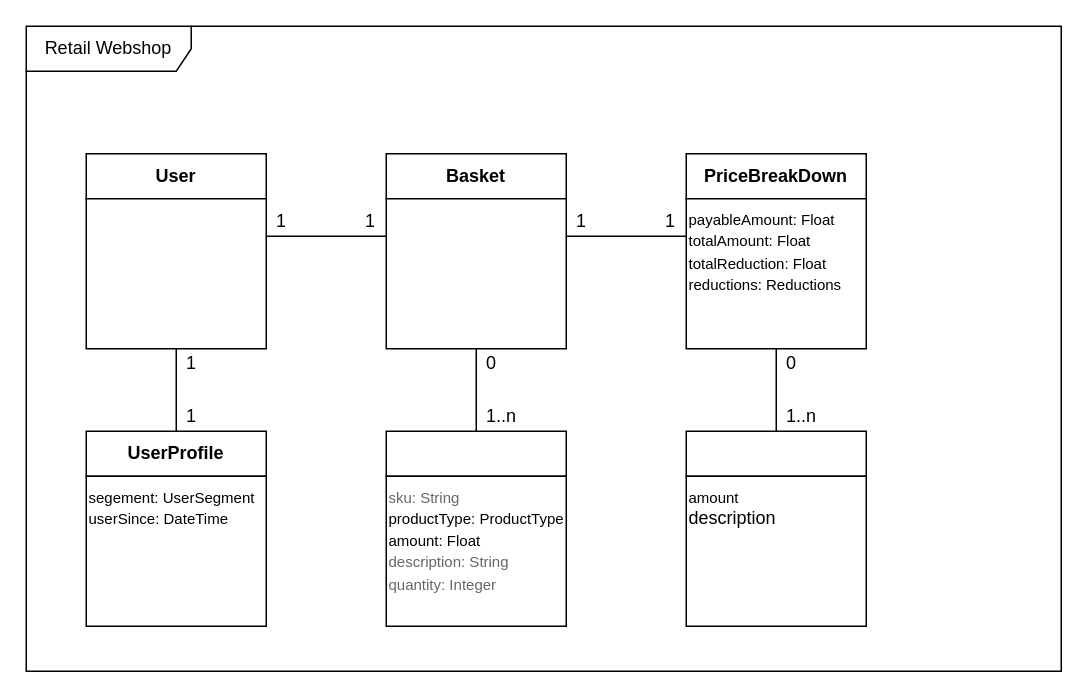
This 1088x698 diagram has some shape labels left out. Here are the shapes that lost their labels. From the top down, the centre of each, then its label:
point 175,273: Id: String userProfile: UserProfile
point 475,273: Id: String products: Products priceBreakdown: PriceBreakDoen
point 475,453: Products
point 775,453: Reductions
